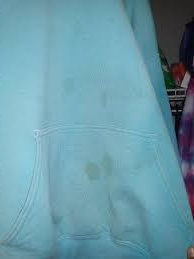mustard: (99, 152, 114, 175), (85, 164, 99, 179), (64, 76, 75, 93), (100, 93, 108, 108)
